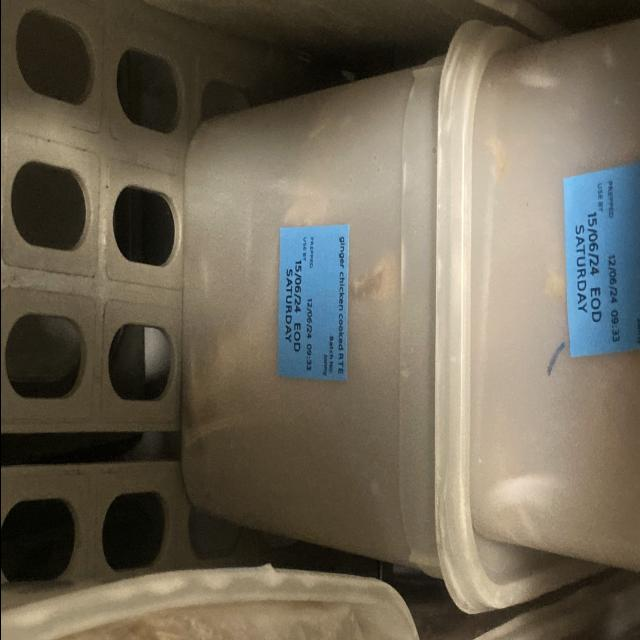product-labels: (559, 163, 640, 358), (274, 224, 348, 379)
